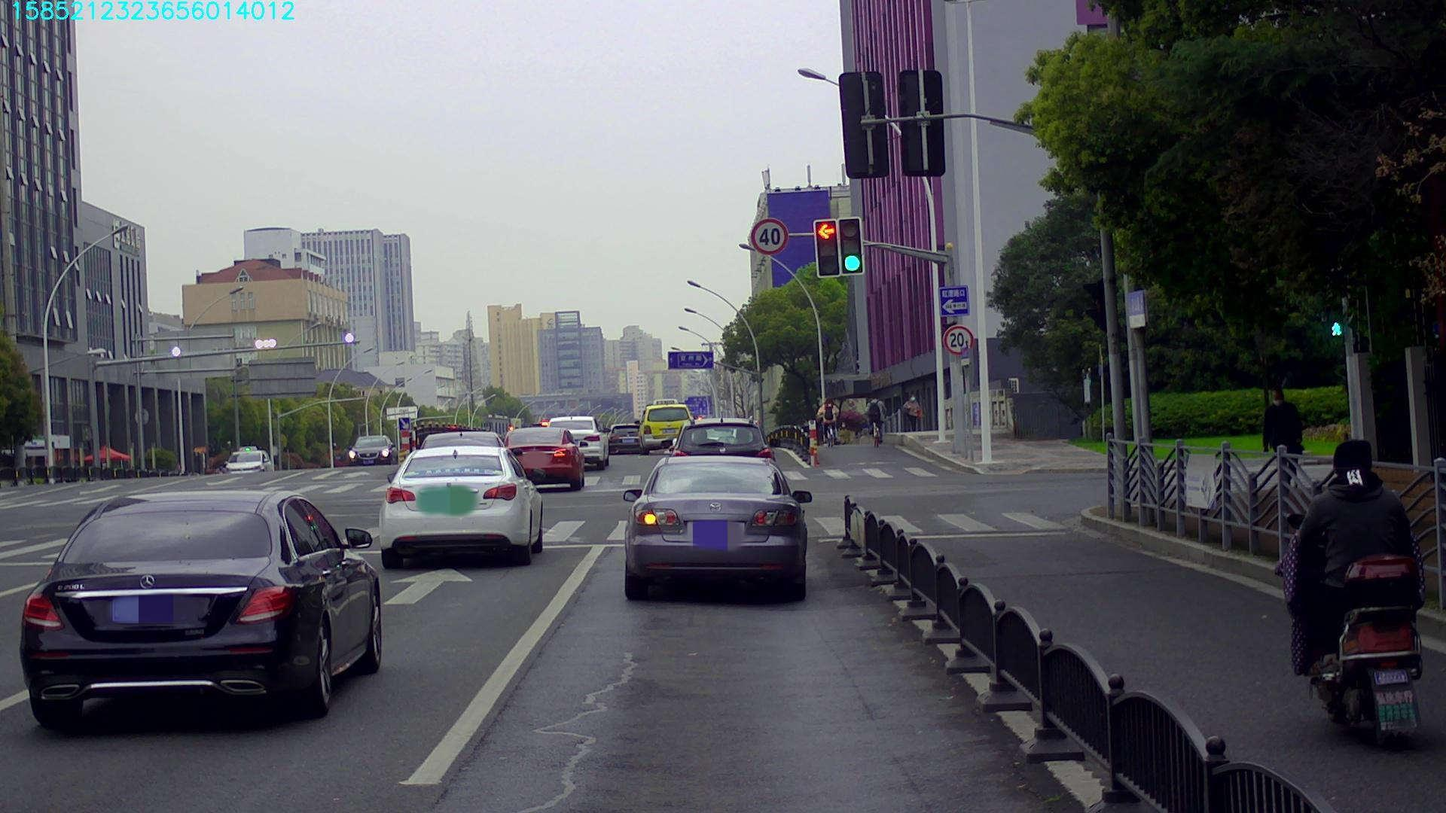green: (838, 217, 862, 273)
red: (814, 219, 840, 276)
